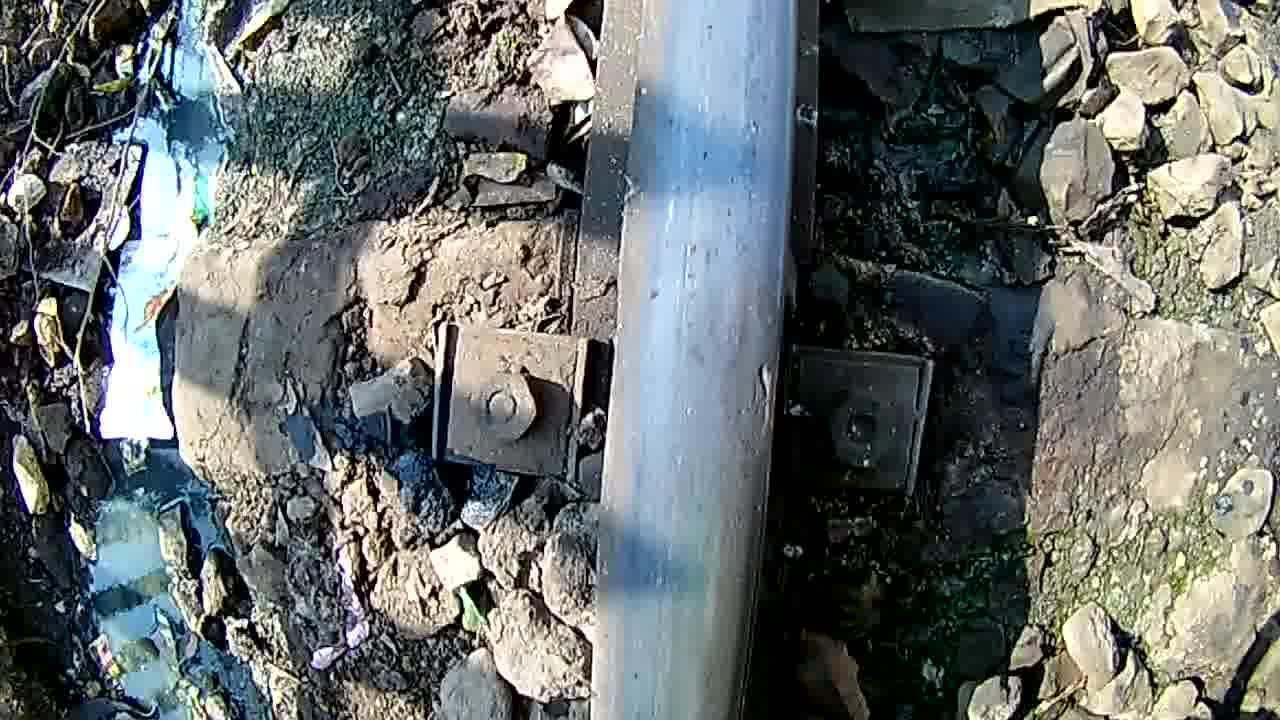crack: (596, 1, 799, 716)
